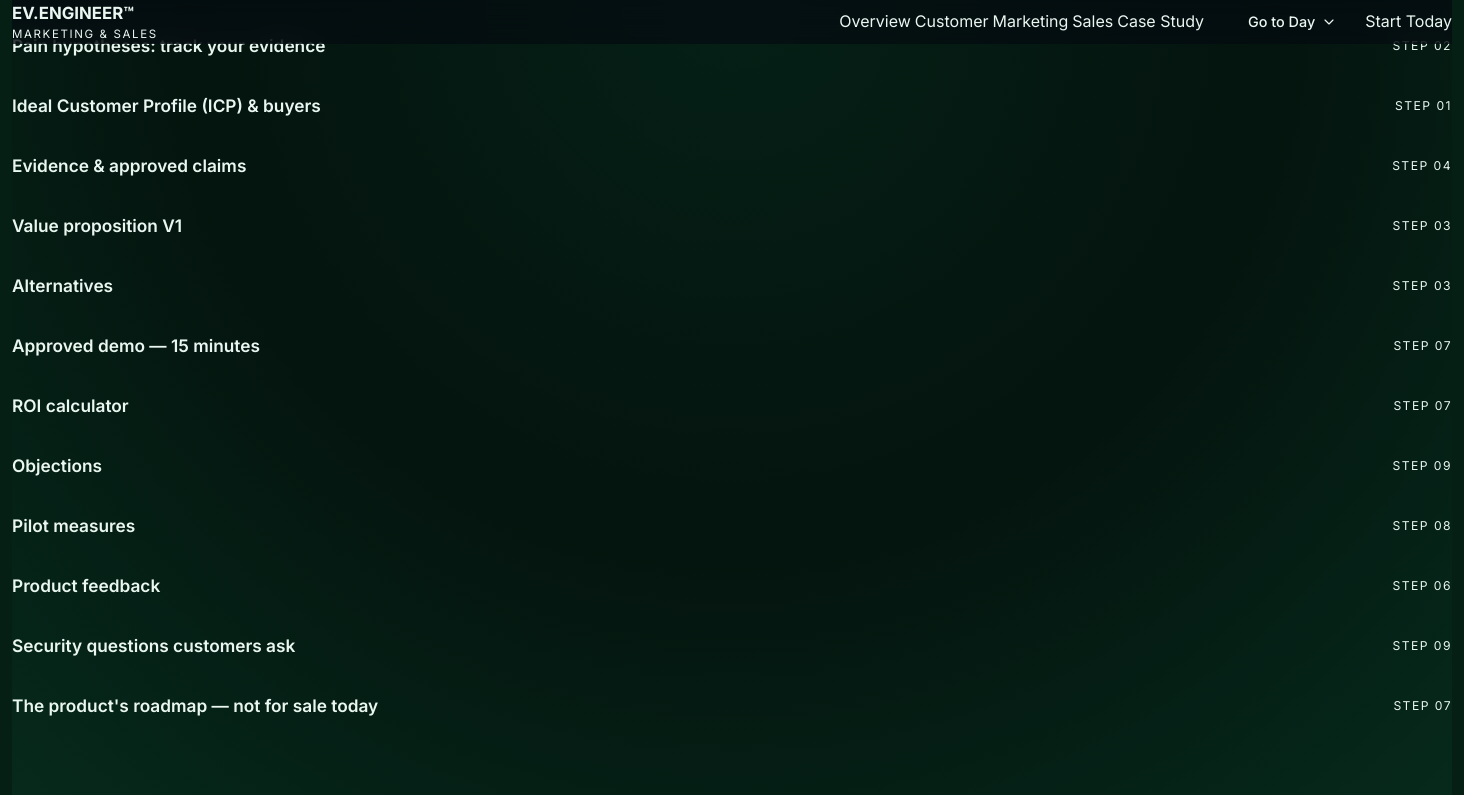
Test case: Case Study page › shows the ROI calculator with its disclaimer when its reference is opened
(page scrolled)
Click the text "ROI calculator". click: point(70, 406)
box: [12,392,129,420]
(page scrolled)
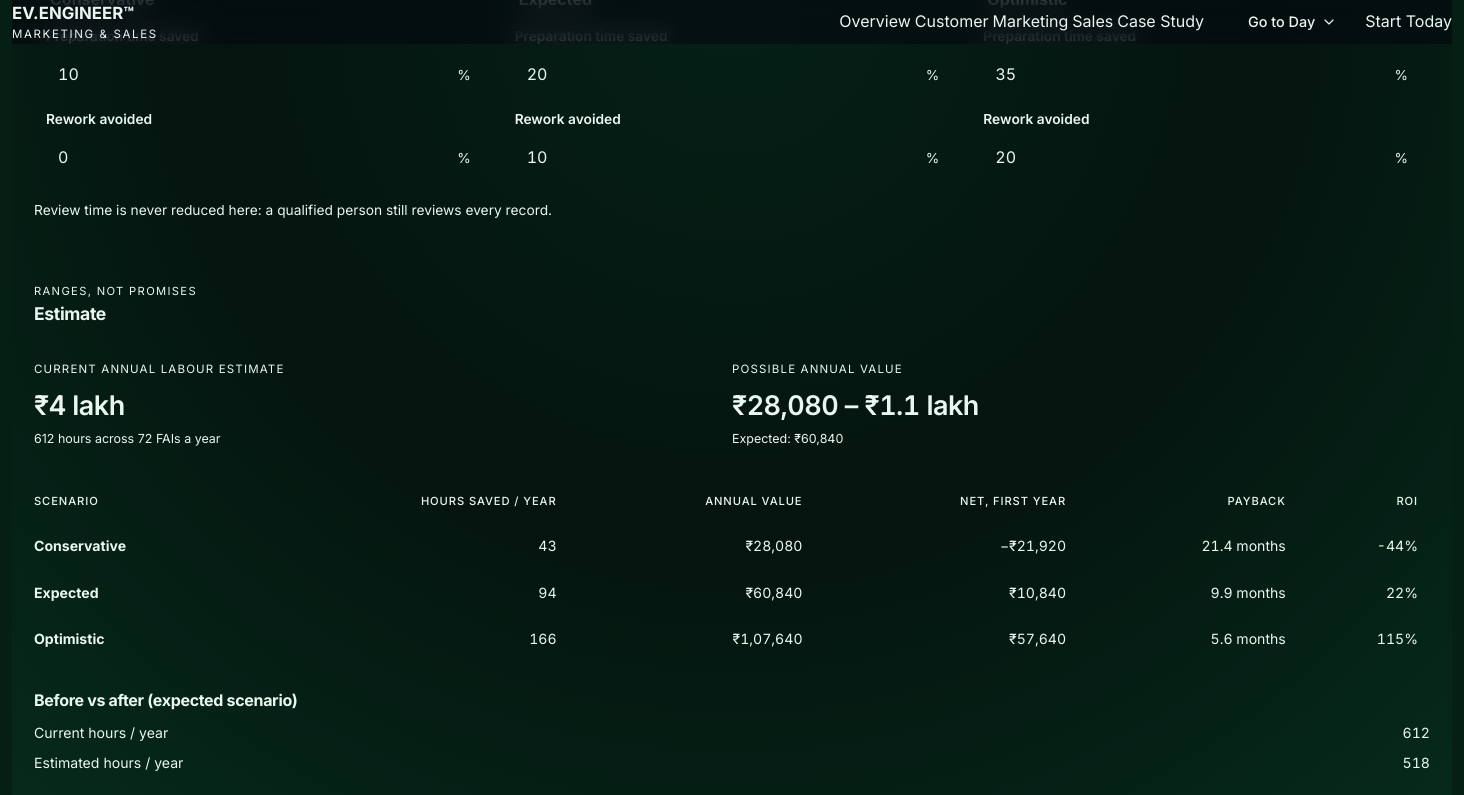
Expected: the text "₹28,080 – ₹1.1 lakh" is shown, [732,389,979,422]
